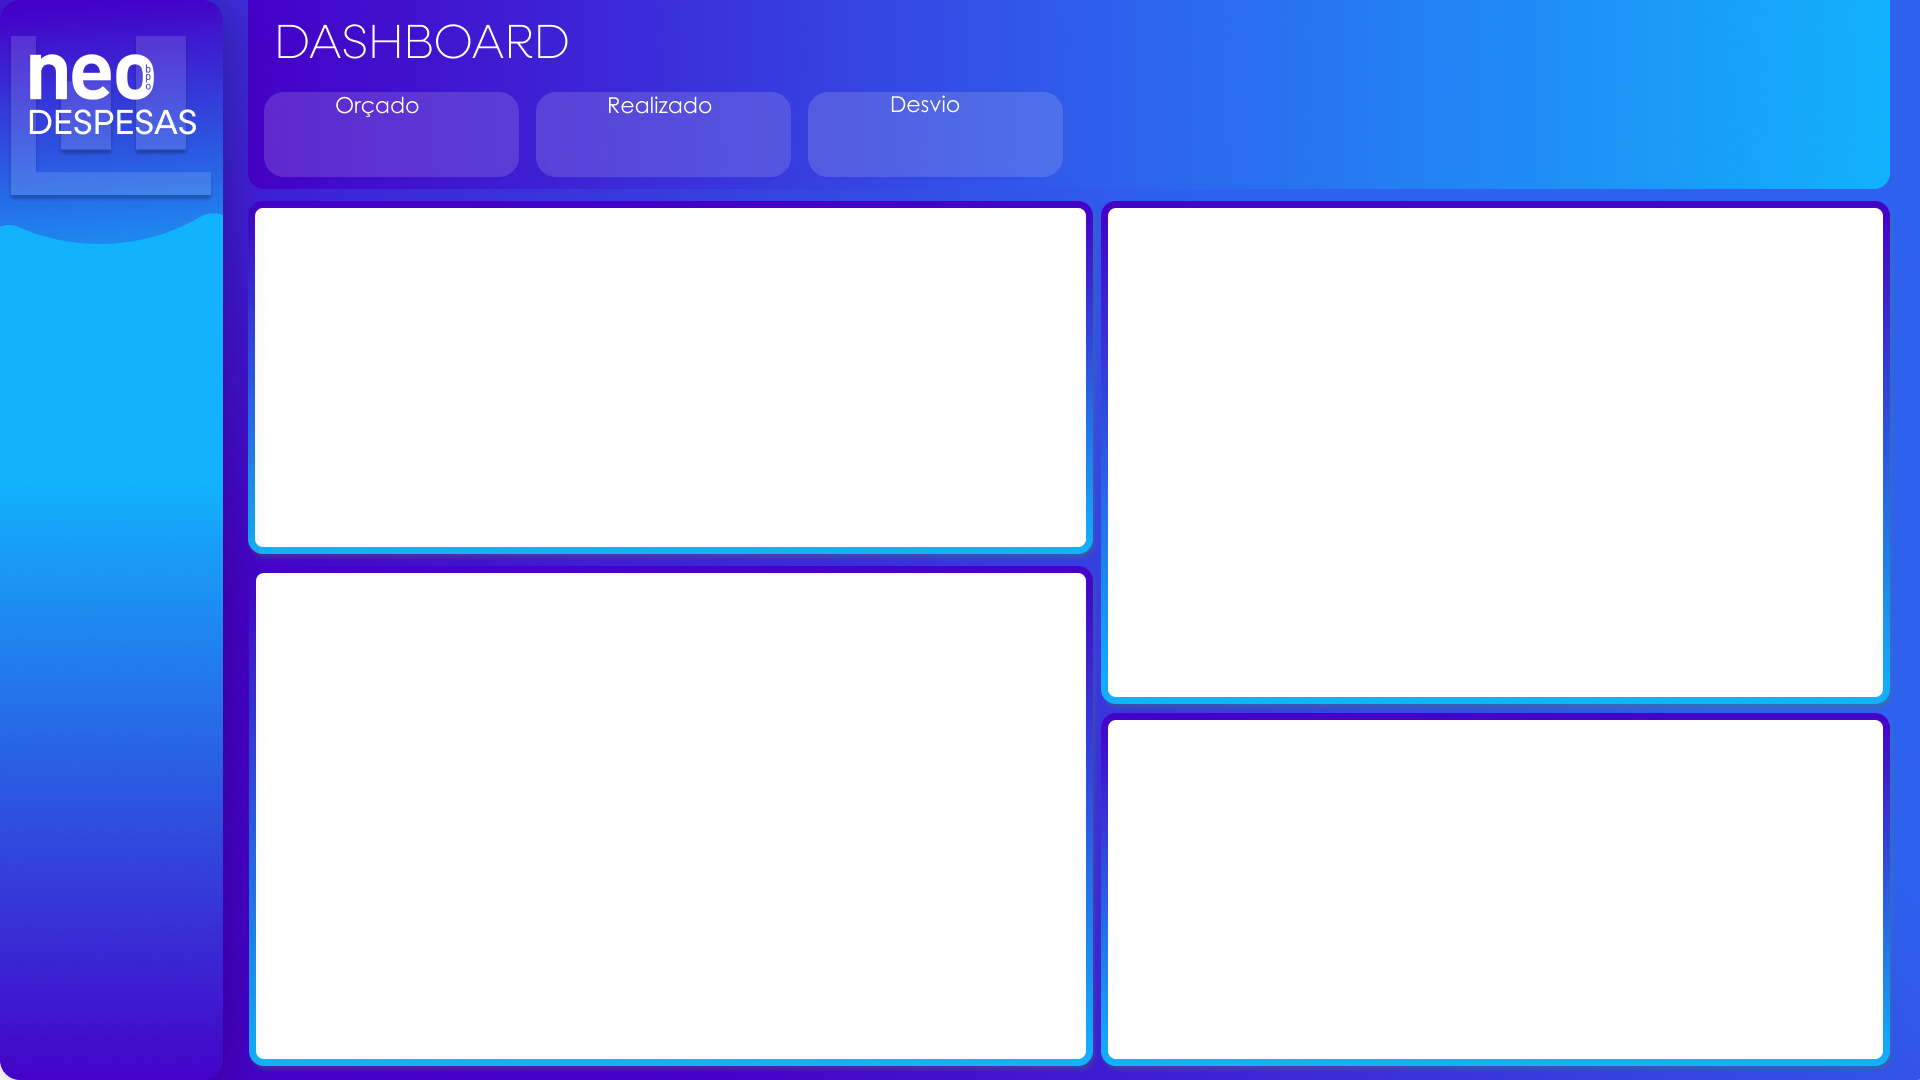

The page's visual inventory and layout, read from the dashboard file:
{"tool":"powerbi","page":{"name":"DASHBOARD","canvas":[1280,720],"ordinal":0},"visuals":[{"type":"card","fields":{"Values":["MEDIDAS.Vlr. Orçado"]},"box":[171.9,72.7,177.1,47.8],"z":0},{"type":"card","fields":{"Values":["MEDIDAS.Vlr. Realizado"]},"box":[357.1,72.7,169,47.8],"z":1000},{"type":"card","fields":{"Values":["MEDIDAS.Desvio %"]},"box":[539.2,72.6,165.7,47.9],"z":2000},{"type":"slicer","title":"Mês","fields":{"Values":["dCalendario.Mes_Abreviado"]},"box":[1161,8.8,96.3,55.1],"z":3000},{"type":"slicer","title":"Ano","fields":{"Values":["dCalendario.Ano"]},"box":[1089,8.8,83,55.1],"z":4000},{"type":"areaChart","title":"Valor Orçado por Centro de Custo","fields":{"Y2":["MEDIDAS.Vlr. Orçado"],"Y":["MEDIDAS.Vlr. Realizado"],"Category":["dCENTRO_DE_CUSTO_MASTER.CC_NOME"]},"box":[177.1,385.8,541.5,321.1],"z":5000},{"type":"hundredPercentStackedBarChart","title":"Valor Orçado em Despesas","fields":{"Y":["MEDIDAS.Vlr. Realizado","MEDIDAS.Vlr. Orçado"],"Category":["dCONTAS.GRUPO"]},"box":[745.1,143.3,507,320.4],"z":6000},{"type":"lineStackedColumnComboChart","title":"Valor Orçado por Mês","fields":{"Category":["dCalendario.Mes_Abreviado"],"Y2":["MEDIDAS.Vlr. Orçado"],"Y":["MEDIDAS.Vlr. Realizado"]},"box":[177.1,143.3,541.5,222.6],"z":7000},{"type":"clusteredBarChart","title":"Receitas Orçadas","fields":{"Category":["dCONTAS.CONTA"],"Y":["MEDIDAS.Vlr. Realizado","MEDIDAS.Vlr. Orçado"]},"box":[745.1,483.5,507,223.4],"z":8000},{"type":"slicer","title":"Centro de Custo","fields":{"Values":["dCENTRO_DE_CUSTO_MASTER.CC_NOME"]},"box":[1117.6,63.9,139.8,55.2],"z":9000},{"type":"slicer","title":"Grupo de Contas","fields":{"Values":["dCONTAS.GRUPO"]},"box":[906.7,63.9,216.8,55.1],"z":10000},{"type":"pageNavigator","box":[0,185.9,149.2,213.1],"z":11000},{"type":"card","fields":{"Values":["MEDIDAS.Atualização"]},"box":[0,562.1,158.7,144.8],"z":12000}]}

Visuals, with their boxes in screenshot pixels (x1, y1, x2, y2), scaled from the page's 1280x720 canvas onto the 1920x1080 screenshot:
card - MEDIDAS.Vlr. Orçado: 258 109 524 181
card - MEDIDAS.Vlr. Realizado: 536 109 789 181
card - MEDIDAS.Desvio %: 809 109 1057 181
"Mês" slicer: 1742 13 1886 96
"Ano" slicer: 1634 13 1758 96
"Valor Orçado por Centro de Custo" areaChart: 266 579 1078 1060
"Valor Orçado em Despesas" hundredPercentStackedBarChart: 1118 215 1878 696
"Valor Orçado por Mês" lineStackedColumnComboChart: 266 215 1078 549
"Receitas Orçadas" clusteredBarChart: 1118 725 1878 1060
"Centro de Custo" slicer: 1676 96 1886 179
"Grupo de Contas" slicer: 1360 96 1685 178
pageNavigator: 0 279 224 598
card - MEDIDAS.Atualização: 0 843 238 1060
